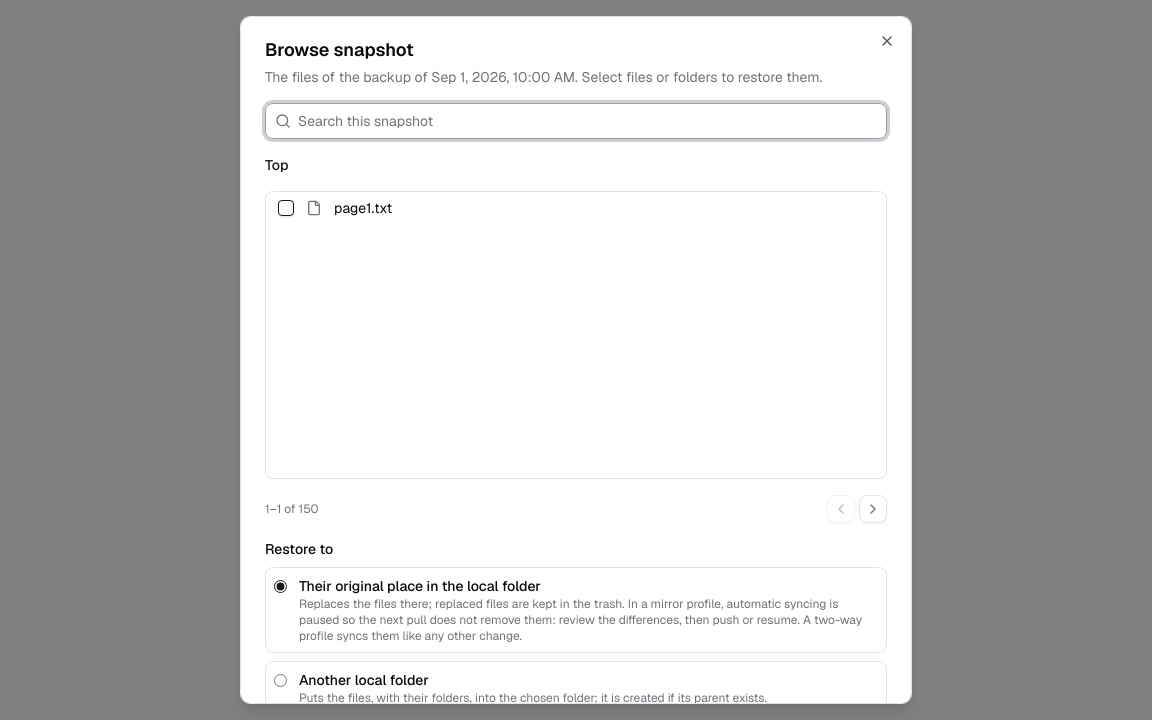
it: SnapshotBrowser navigation › stays on the next page when it is opened within the search debounce
Expected: the text "page1.txt" is shown, [334,199,392,217]
What coordinates should you click on to do the following:
click the button named "Next page"
I would click on:
 (873, 509)
Its box is [859,495,887,523].
Wait 1000 ms
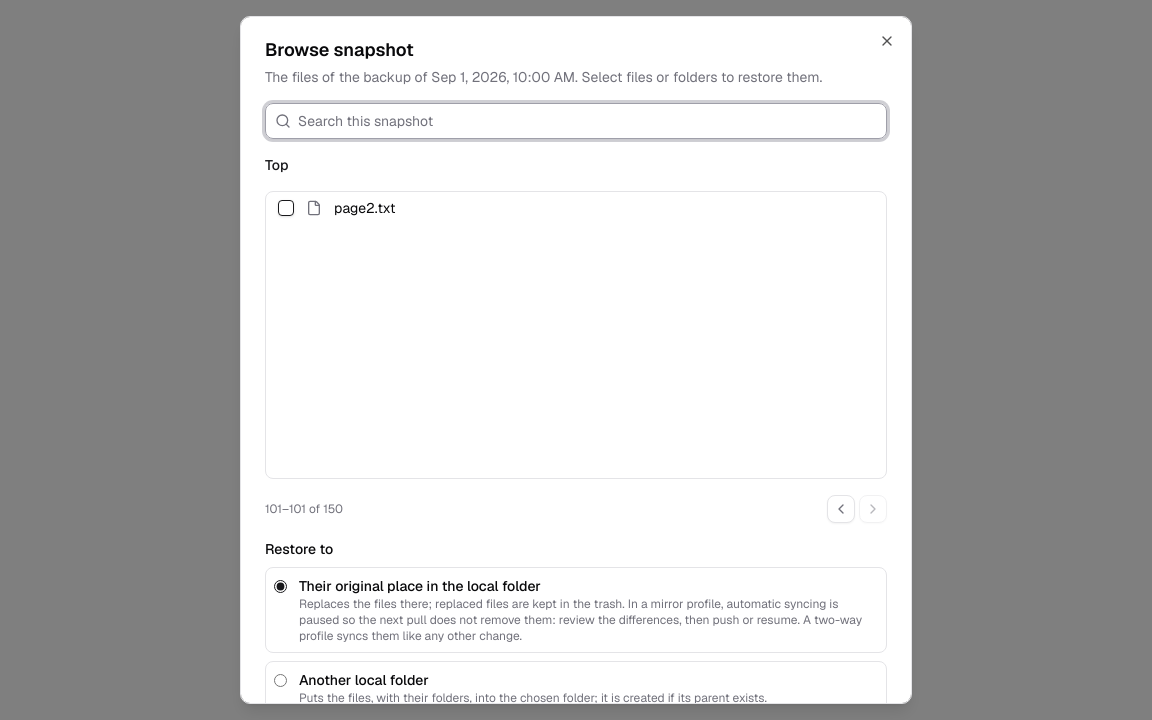
Now the text "page2.txt" is shown, box [334,199,396,217]
Now the text "page1.txt" is gone
